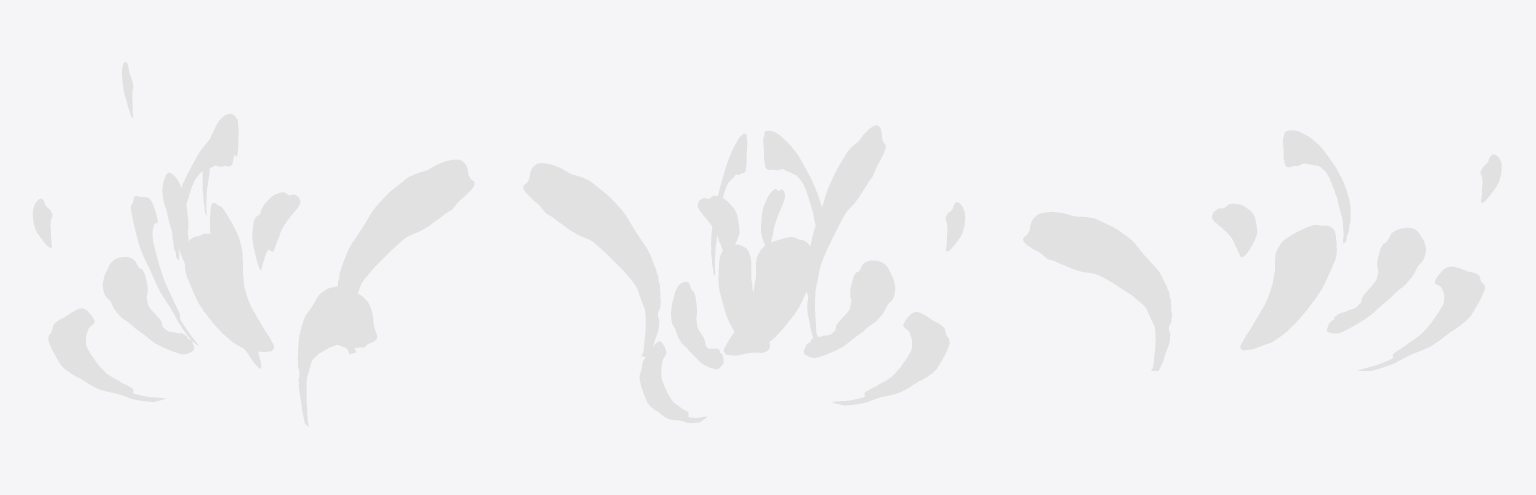
Rendered from GrassSmall.fbx.
The picture shows the model from 3 angles, left to right: view 1: azimuth 30°, elevation 25°; view 2: azimuth 150°, elevation 25°; view 3: azimuth 270°, elevation 25°; orthographic projection. The views are drawn at different scales.
Visible parts, largest first — view 1: GrassSmall; view 2: GrassSmall; view 3: GrassSmall.
Boxes of the visible parts, x1,y1,x2,y2 form: GrassSmall: [32, 62, 474, 426]; GrassSmall: [523, 125, 965, 422]; GrassSmall: [1023, 130, 1501, 370].
Bounding box in the file's own units: 34.35 × 18.72 × 34.35.
